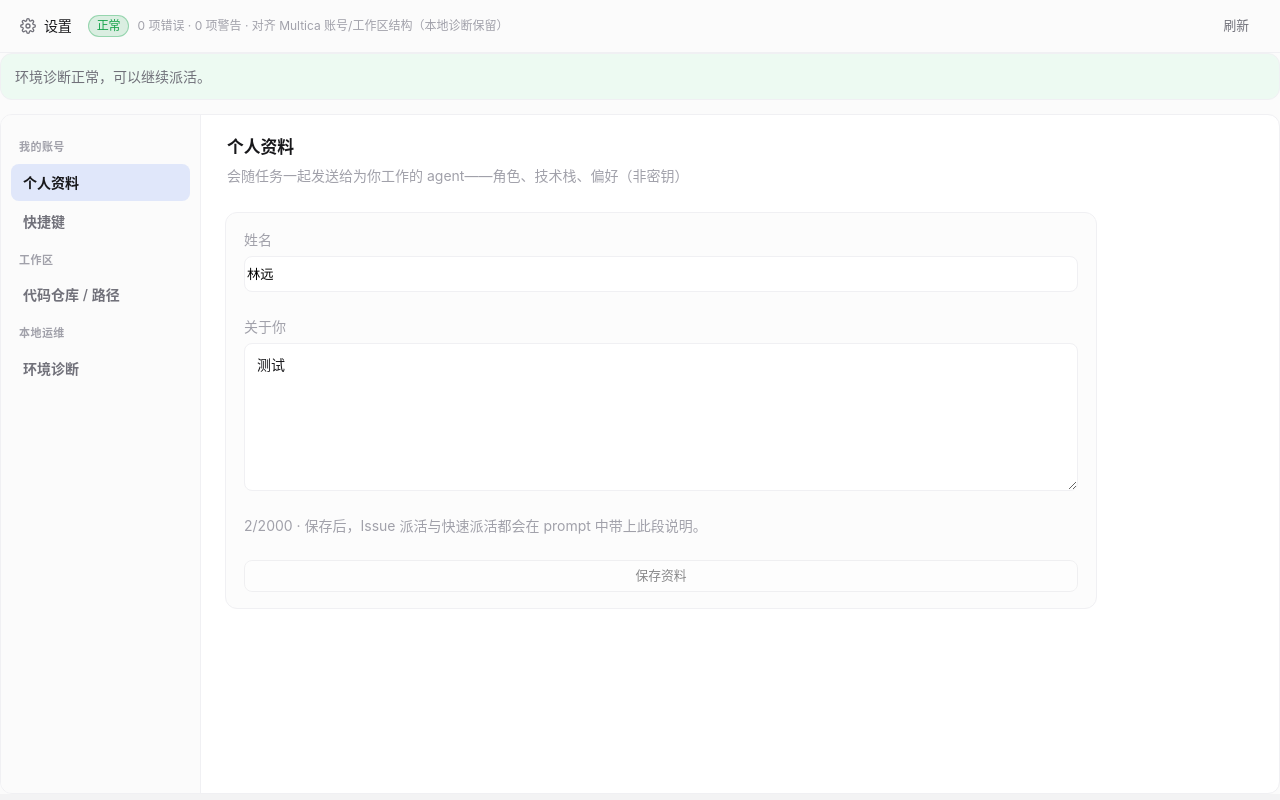
Test case: SettingsPage › 运行健康卡显示「在途 x / 上限 y」比例（G2-5 收尾）
Click the button with test id "settings-nav-health" at (100, 368), box top-left (11, 350), bottom-right (190, 386)
(page scrolled)
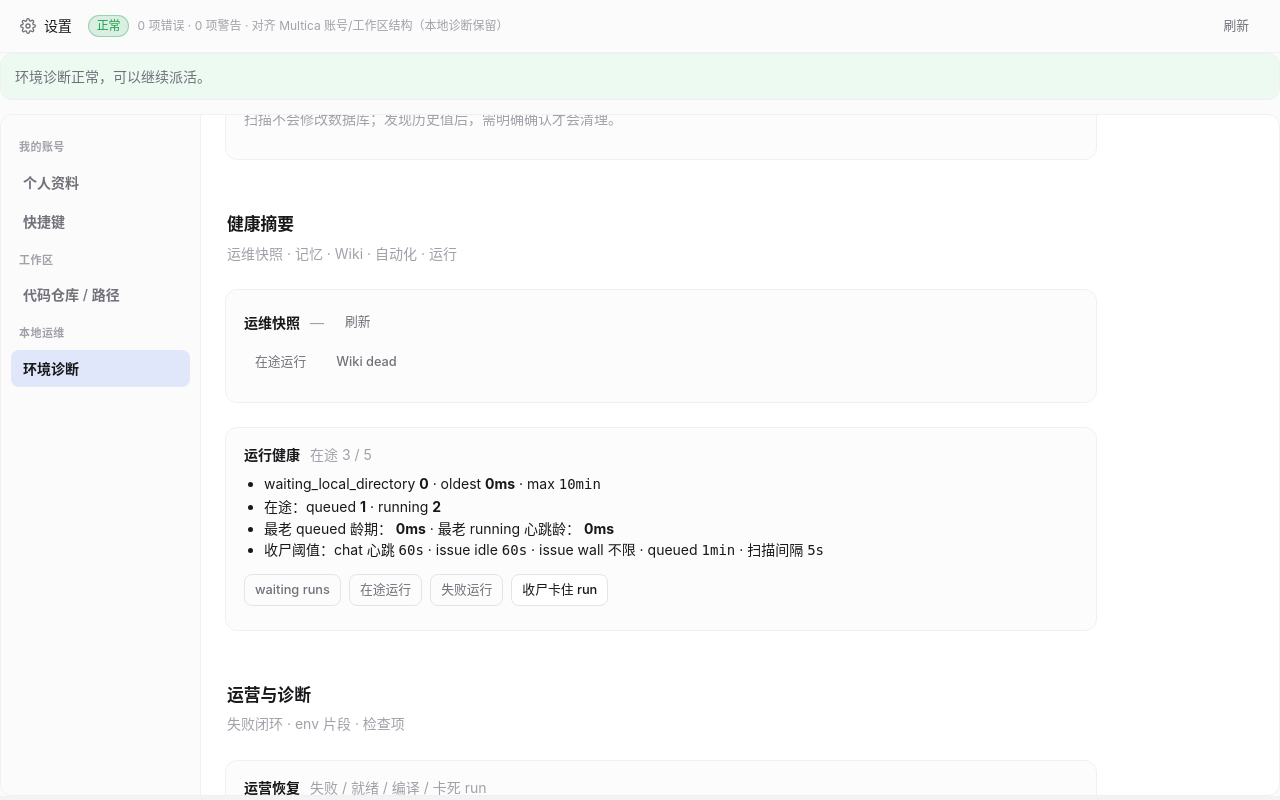
Now the text with test id "settings-run-health-inflight" reads "在途 3 / 5", box top-left (310, 444), bottom-right (372, 465)
